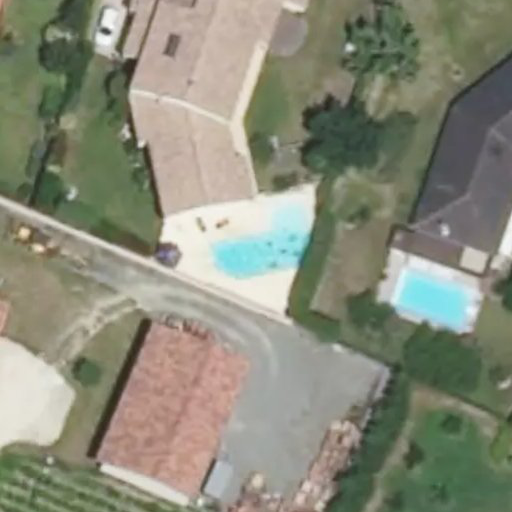pool: (199, 224, 314, 264)
